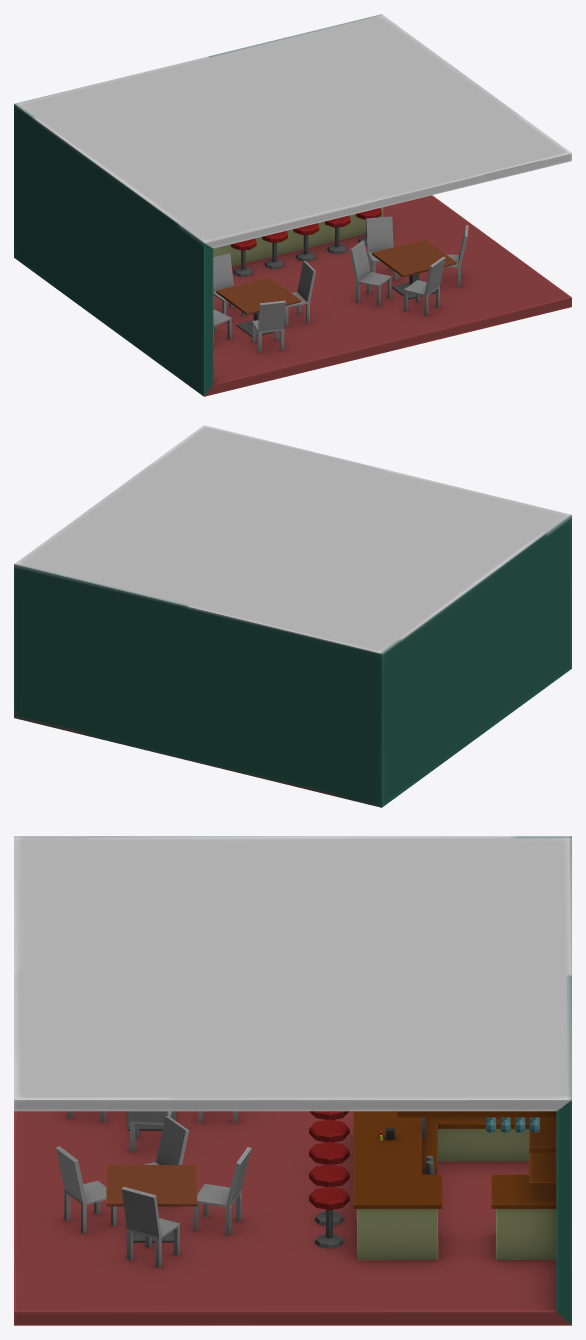
The model's file is Bar scene.glb.
The picture shows the model from 3 angles, top to bottom: view 1: azimuth 30°, elevation 25°; view 2: azimuth 150°, elevation 25°; view 3: azimuth 270°, elevation 25°; orthographic projection. The views are drawn at different scales.
Visible parts, largest first — view 1: Bar_mesh; view 2: Bar_mesh; view 3: Bar_mesh.
Boxes of the visible parts, left/top/right/bottom form: Bar_mesh: left=14, top=14, right=571, bottom=396; Bar_mesh: left=14, top=425, right=571, bottom=807; Bar_mesh: left=14, top=836, right=571, bottom=1325.
Bounding box in the file's own units: 21.19 × 8.47 × 18.97.
2 materials, 2 textured.
